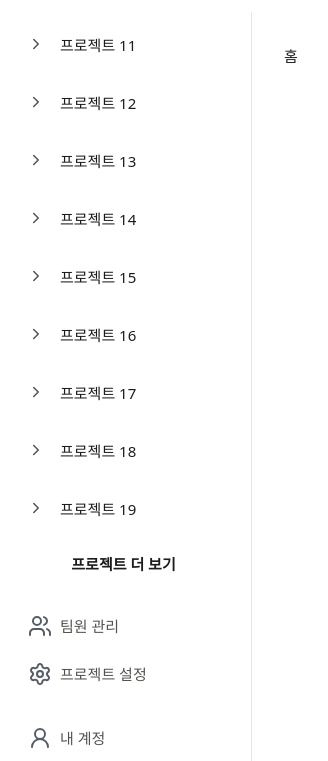
Scenario: 추가 페이지의 프로젝트를 열고 설정으로 이동해도 탐색 목록을 유지한다
This screenshot has width=328, height=761.
Later steps or results of the test are not shown.
(page scrolled)
What coordinates should you click on to do the following:
click the button "프로젝트 더 보기"
I would click on:
 (124, 564)
Its box is [16, 544, 231, 584].
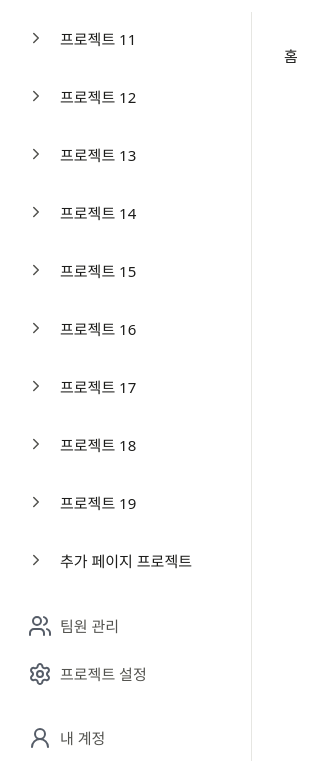
What coordinates should you click on to do the following:
click the link "추가 페이지 프로젝트"
I would click on:
 (126, 561)
Its box is [60, 551, 192, 571].
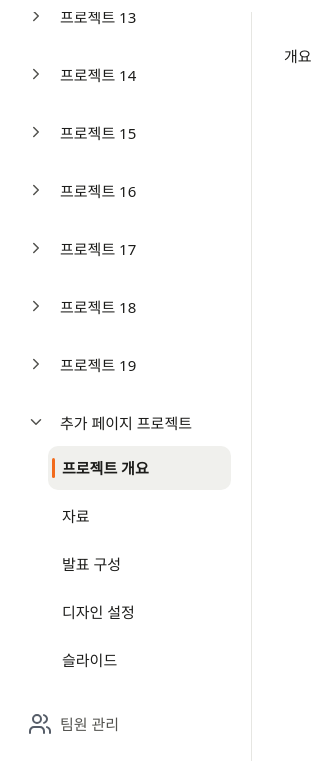
Expected: the link "추가 페이지 프로젝트" is shown, [60, 413, 192, 433]
Expected: the text "개요" is shown, [284, 46, 312, 66]
